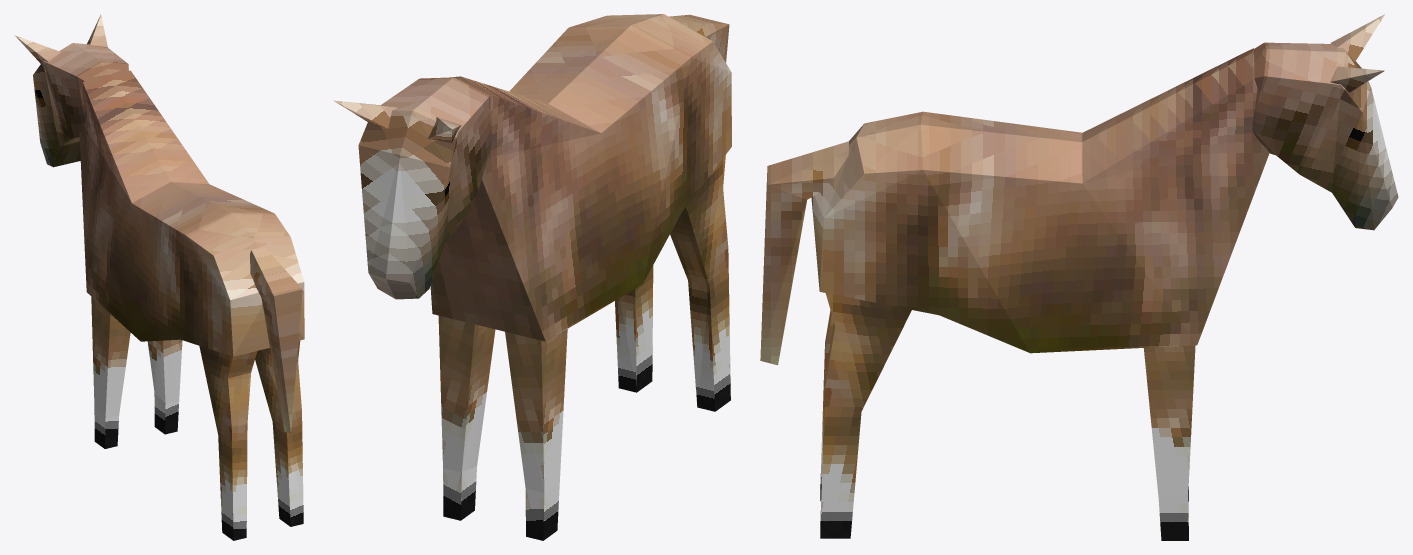
File: Horse_Horse_Palomino.glb
3 views of the same model, side by side, from view 1: azimuth 30°, elevation 25°; view 2: azimuth 150°, elevation 25°; view 3: azimuth 270°, elevation 25° (orthographic). The views are drawn at different scales.
Visible parts, largest first — view 1: Body, Head, Leg3, Leg4, Leg1, Leg2; view 2: Body, Head, Leg3, Leg1, Leg2, Leg4; view 3: Body, Head, Leg4, Leg2.
Part boxes in pixels (x1=…): Body: x1=79, y1=69, x2=304, y2=432; Head: x1=14, y1=14, x2=128, y2=167; Leg3: x1=199, y1=346, x2=257, y2=540; Leg4: x1=255, y1=340, x2=303, y2=526; Leg1: x1=91, y1=297, x2=130, y2=448; Leg2: x1=147, y1=339, x2=182, y2=434; Body: x1=430, y1=14, x2=731, y2=341; Head: x1=333, y1=77, x2=491, y2=299; Leg3: x1=670, y1=155, x2=730, y2=411; Leg1: x1=505, y1=329, x2=567, y2=540; Leg2: x1=438, y1=315, x2=495, y2=520; Leg4: x1=615, y1=265, x2=653, y2=392; Body: x1=760, y1=48, x2=1269, y2=365; Head: x1=1252, y1=14, x2=1398, y2=230; Leg4: x1=820, y1=293, x2=911, y2=538; Leg2: x1=1143, y1=345, x2=1195, y2=540.
Size of the model in its own units: 0.4986 by 1.71 by 2.08.
Materials: 1 (1 with a texture image).
